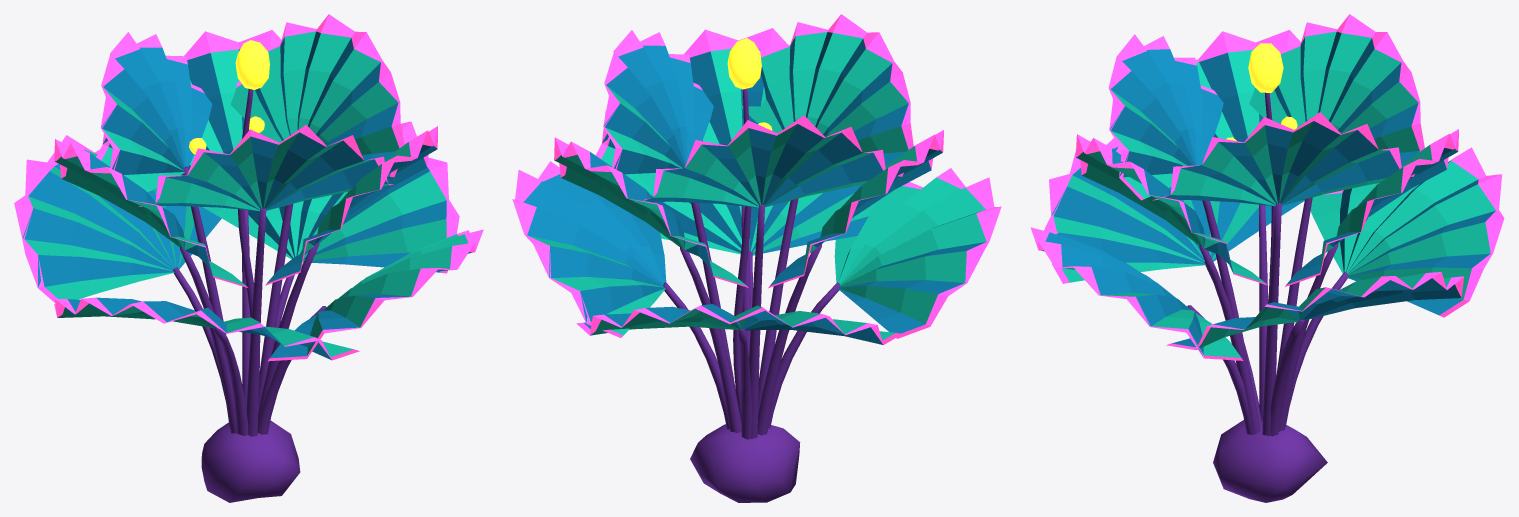
The model's file is exotic_fan_plant_a.glb.
3 renders of one model, left to right at view 1: azimuth 30°, elevation 25°; view 2: azimuth 150°, elevation 25°; view 3: azimuth 270°, elevation 25°, orthographic.
Parts seen in each view (by area): view 1: exotic_fan_plant_a_mesh; view 2: exotic_fan_plant_a_mesh; view 3: exotic_fan_plant_a_mesh.
Boxes of the visible parts, x1,y1,x2,y2 form: exotic_fan_plant_a_mesh: (14, 14, 483, 502); exotic_fan_plant_a_mesh: (512, 14, 1001, 502); exotic_fan_plant_a_mesh: (1030, 14, 1504, 502).
Bounding box in the file's own units: 5.23 × 5.63 × 5.37.
